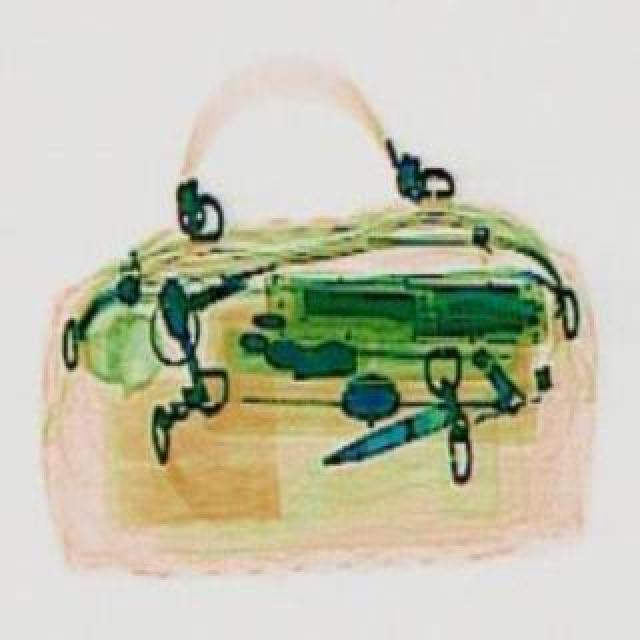knife: (316, 394, 456, 468)
